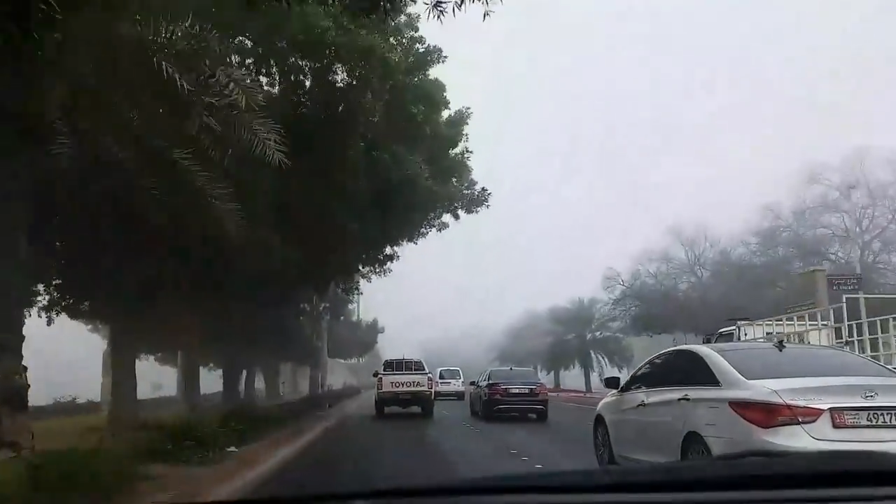bus: (698, 288, 896, 439)
car: (590, 337, 895, 497), (468, 361, 549, 421), (373, 352, 436, 419), (429, 366, 466, 402)
